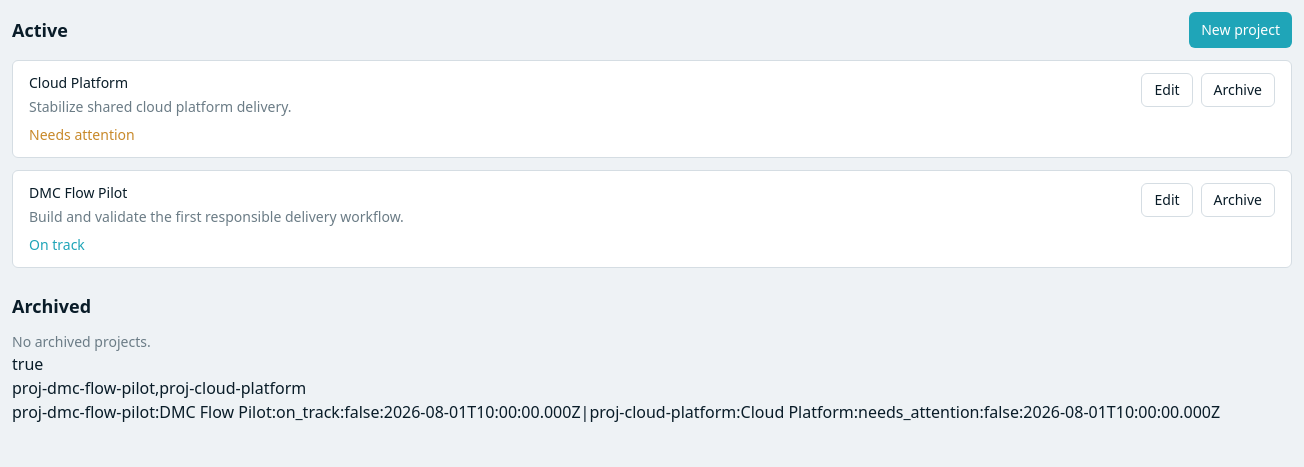
it: ProjectsView › refuses archive when open tasks remain
expect the text with test id "hydrated" reads "true": met, box 12,353 -> 43,375
Click the 2nd button "Archive": (1238,200) 1200,183 -> 1275,217
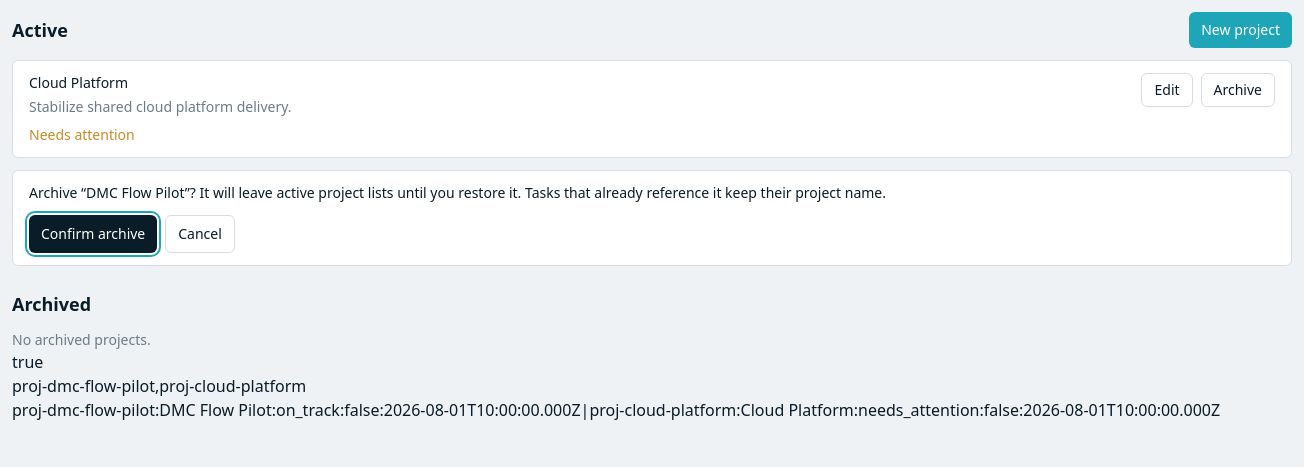
Click the button "Confirm archive": (93,234) 29,215 -> 157,253
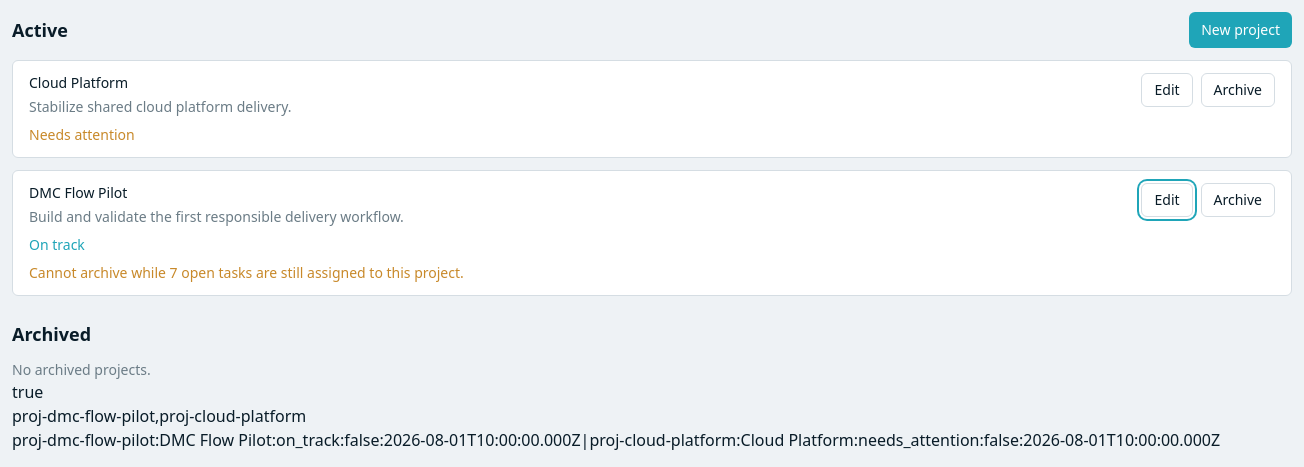
expect the message reads "Cannot archive while 7 open tasks are still assigned to this project.": met, box 29,263 -> 464,282
